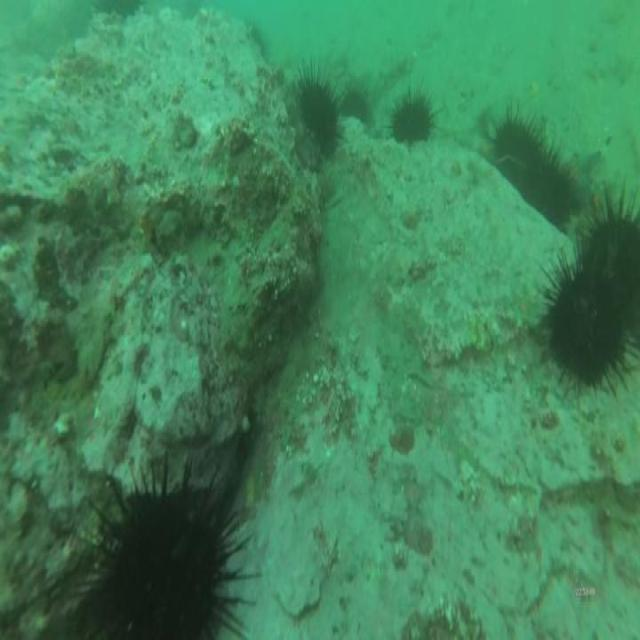echinus: (101, 498, 234, 640), (550, 267, 624, 389), (581, 212, 639, 335), (491, 117, 541, 188), (298, 77, 340, 152), (539, 150, 567, 223), (396, 96, 433, 144)
starfish: (567, 144, 603, 202)
